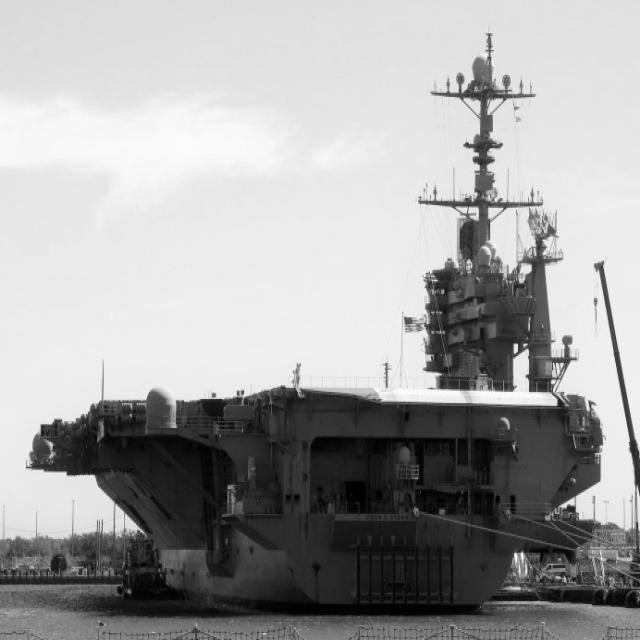Portanaves: (29, 20, 615, 616)
